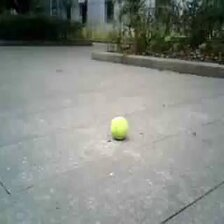tennis: (110, 116, 127, 139)
